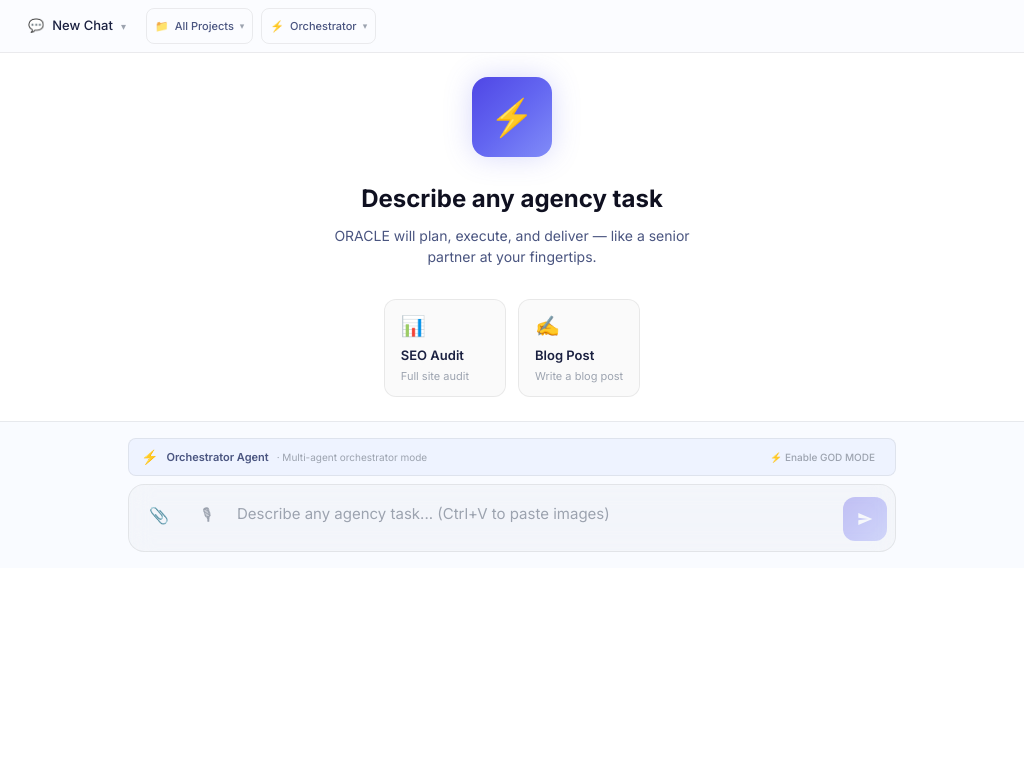
Test: ChatPanel › message rendering › renders assistant response after streaming completes
Type "Hi" into the text box named "Chat input" at {"x": 536, "y": 519}, box [237, 495, 835, 543]
Then press Enter
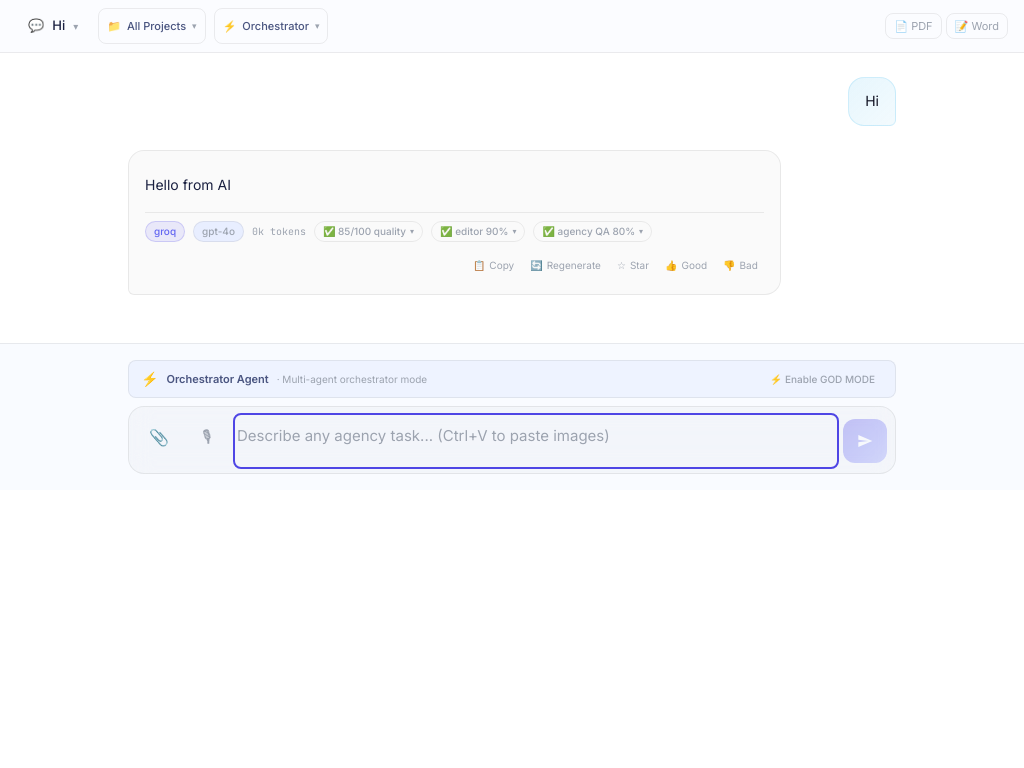
Check: the text "Hello from AI" is shown, box [145, 176, 231, 193]
